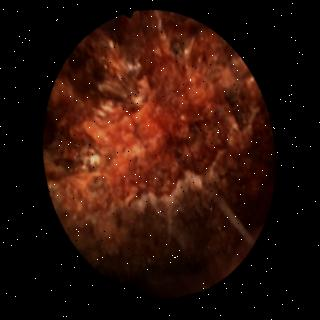stone: (46, 14, 271, 291)
